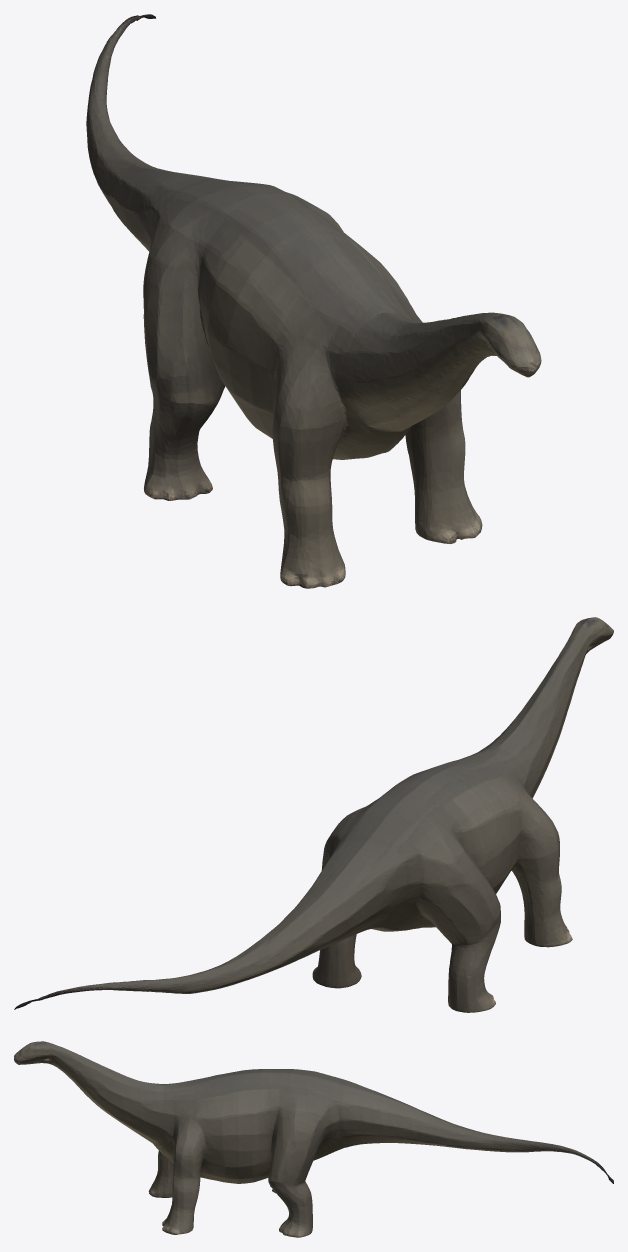
3 views of the same model, one above another, from view 1: azimuth 30°, elevation 25°; view 2: azimuth 150°, elevation 25°; view 3: azimuth 270°, elevation 25° (orthographic). The views are drawn at different scales.
Parts seen in each view (by area): view 1: world; view 2: world; view 3: world.
Part boxes in pixels (left/top/right/bottom): world: left=86, top=14, right=541, bottom=588; world: left=14, top=617, right=613, bottom=1012; world: left=14, top=1041, right=613, bottom=1237.
Size of the model in its own units: 7.13 by 6.76 by 22.
Materials: 1 (1 with a texture image).
